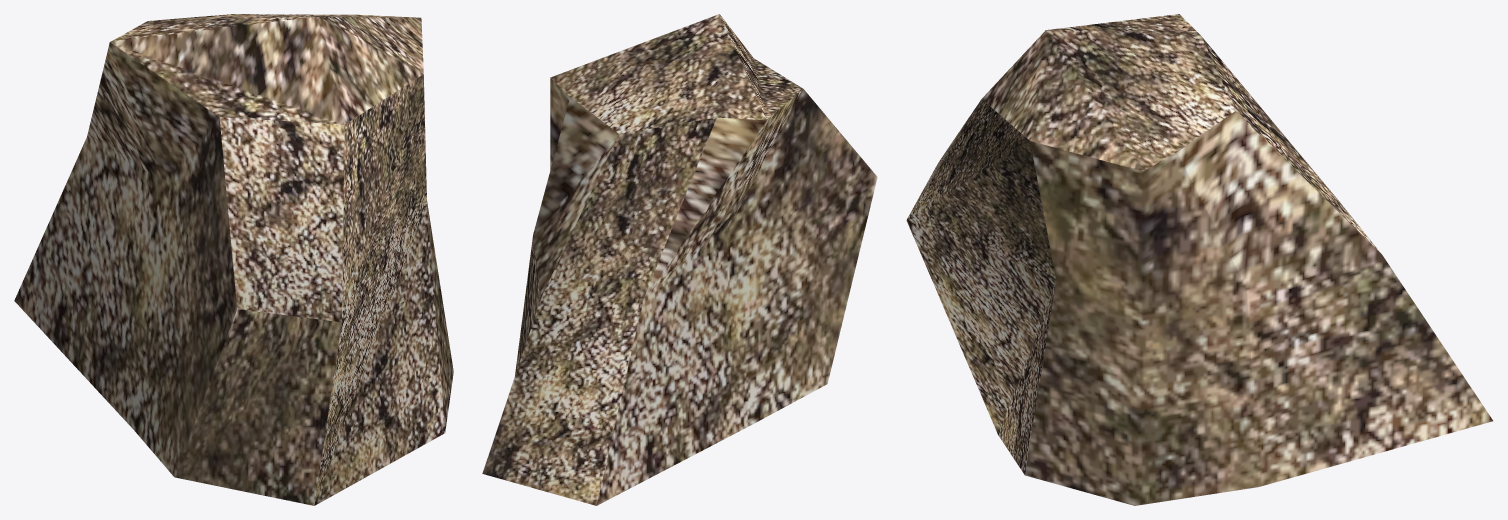
Rendered from stones_tropic_large_0.glb.
The picture shows the model from 3 angles, left to right: view 1: azimuth 30°, elevation 25°; view 2: azimuth 150°, elevation 25°; view 3: azimuth 270°, elevation 25°; orthographic projection. The views are drawn at different scales.
Visible parts, largest first — view 1: stones_tropic_large_0; view 2: stones_tropic_large_0; view 3: stones_tropic_large_0.
Part boxes in pixels (<box>): stones_tropic_large_0: <box>14,14,453,505</box>; stones_tropic_large_0: <box>482,14,877,505</box>; stones_tropic_large_0: <box>906,14,1492,505</box>.
Size of the model in its own units: 3.25 by 4.42 by 5.63.
1 material, 1 textured.
